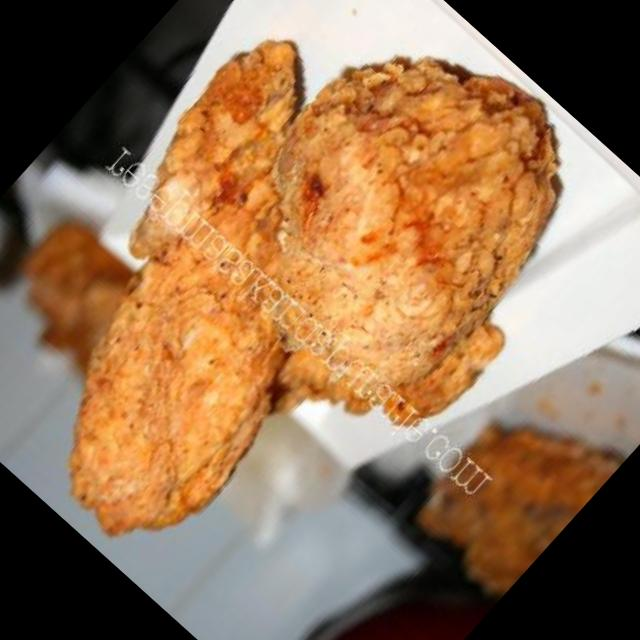Fried Chicken: (67, 35, 564, 536)
